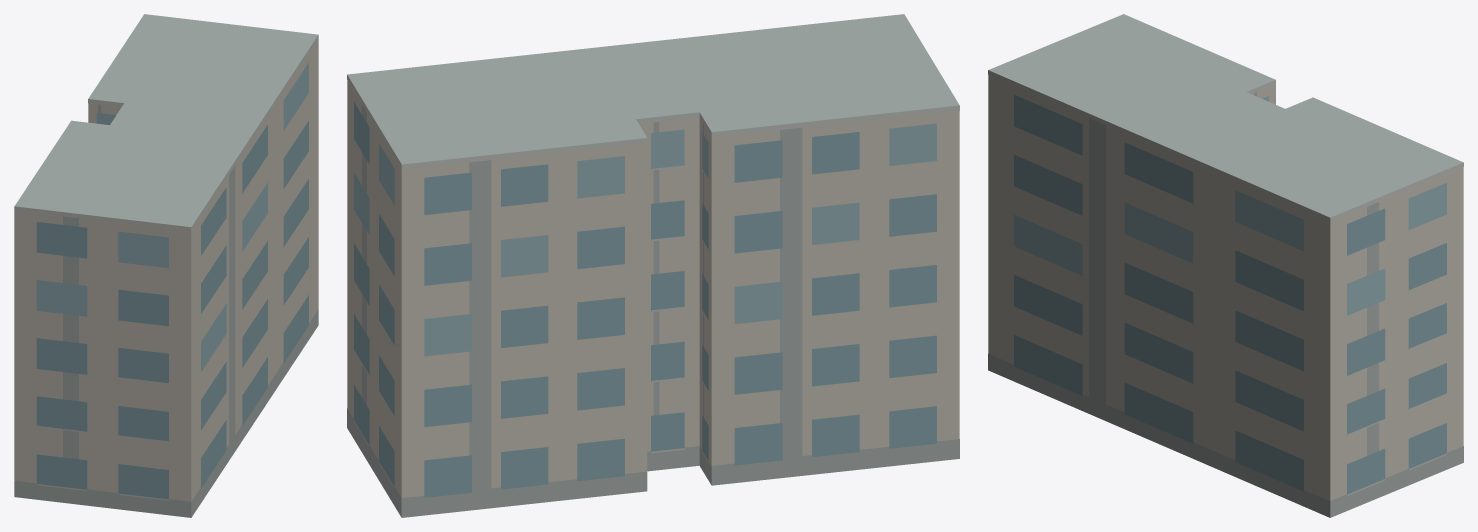
Rendered from residential-a961976e-34a7-4c4a-9258-93da925ec938.glb.
3 renders of one model, left to right at view 1: azimuth 30°, elevation 25°; view 2: azimuth 150°, elevation 25°; view 3: azimuth 270°, elevation 25°, orthographic. The views are drawn at different scales.
Parts seen in each view (by area): view 1: residential-a961976e-34a7-4c4a-9258-93da925ec938.tmp; view 2: residential-a961976e-34a7-4c4a-9258-93da925ec938.tmp; view 3: residential-a961976e-34a7-4c4a-9258-93da925ec938.tmp.
Boxes of the visible parts, x1,y1,x2,y2 form: residential-a961976e-34a7-4c4a-9258-93da925ec938.tmp: (14,14,318,517); residential-a961976e-34a7-4c4a-9258-93da925ec938.tmp: (347,14,959,517); residential-a961976e-34a7-4c4a-9258-93da925ec938.tmp: (988,14,1463,517).
Bounding box in the file's own units: 23.79 × 16.35 × 23.47.
